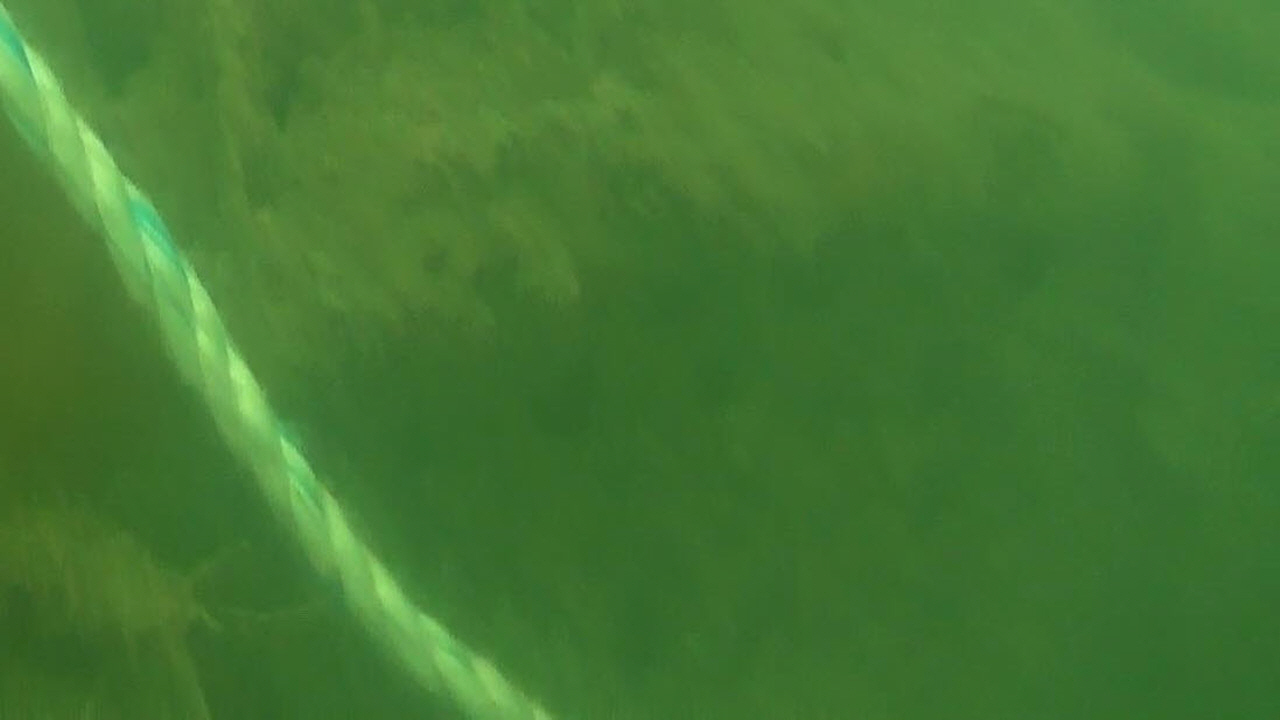rope: (0, 0, 552, 720)
